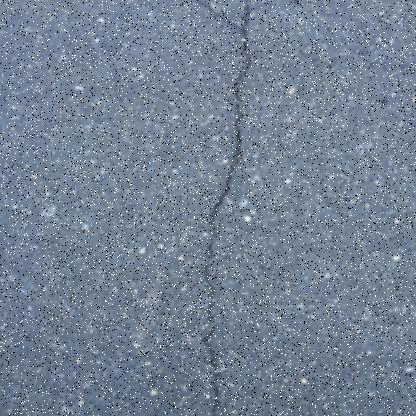Cracks: (179, 0, 271, 415)
